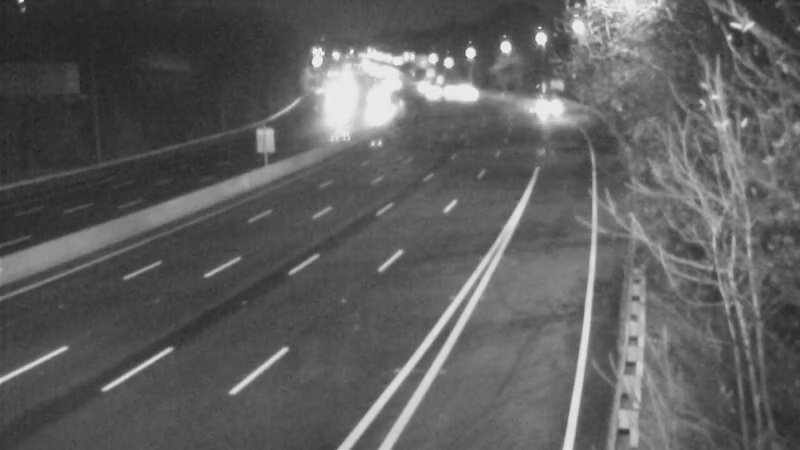vehicle: (411, 69, 461, 119), (437, 67, 487, 117), (504, 77, 554, 127), (348, 78, 398, 128)
